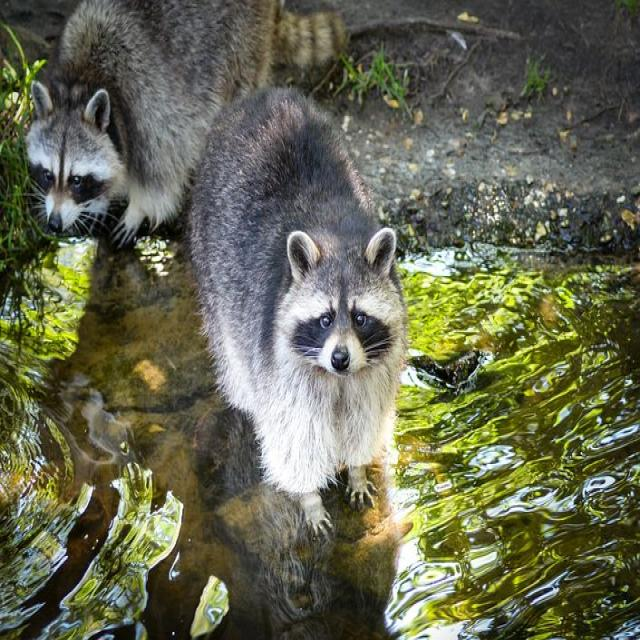raccoon: (185, 86, 407, 540), (27, 1, 347, 245)
